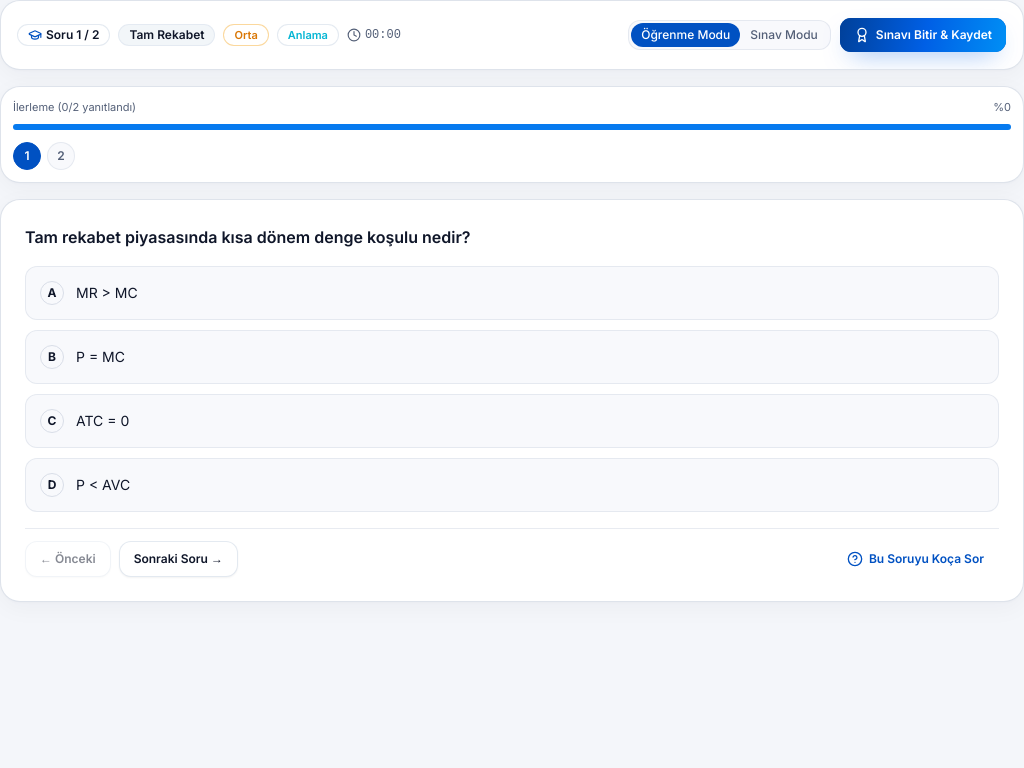
Redesigned EconNotes Çalışma Stüdyosu › supports QuizWorkspace study mode, AI rubric grading for open-ended questions, and records progress
Later steps or results of the test are not shown.
Note: Answer Q1 multiple choice
Click the text "P = MC". click: {"x": 100, "y": 356}
box: top-left (76, 346), bottom-right (125, 366)
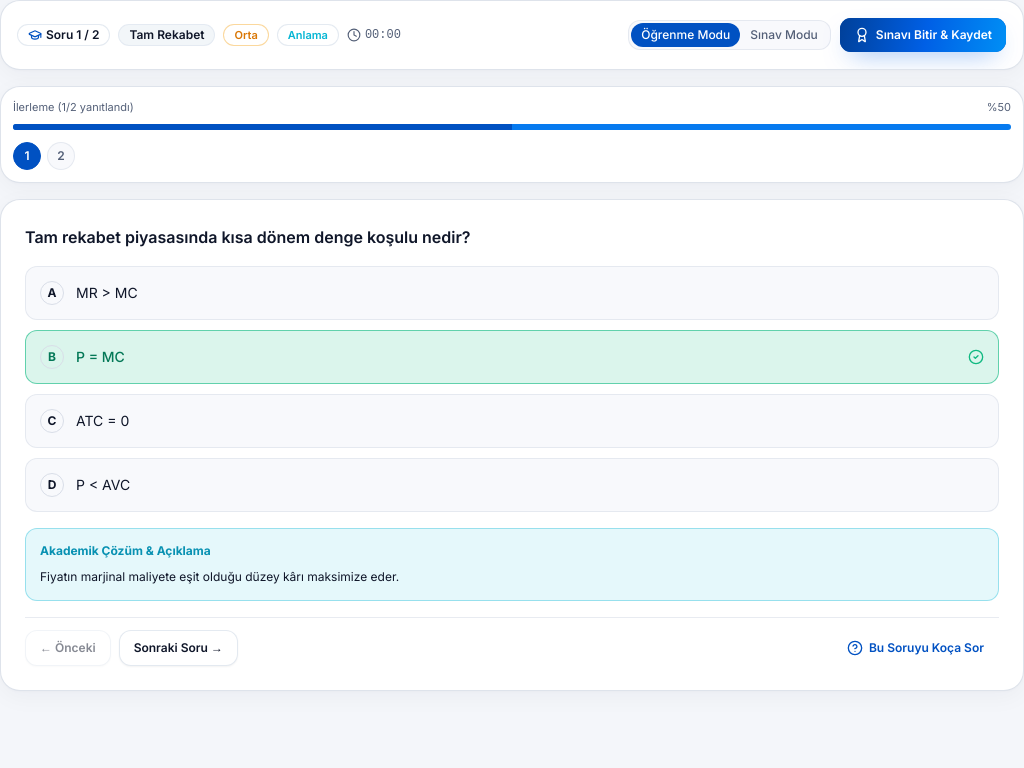
Expected: the text "Fiyatın marjinal maliyete eşit olduğu düzey" is shown, top-left (40, 568), bottom-right (399, 584)
Note: Move to Q2 open-ended
Click the button "Sonraki Soru →". click: {"x": 178, "y": 648}
box: top-left (119, 630), bottom-right (238, 666)
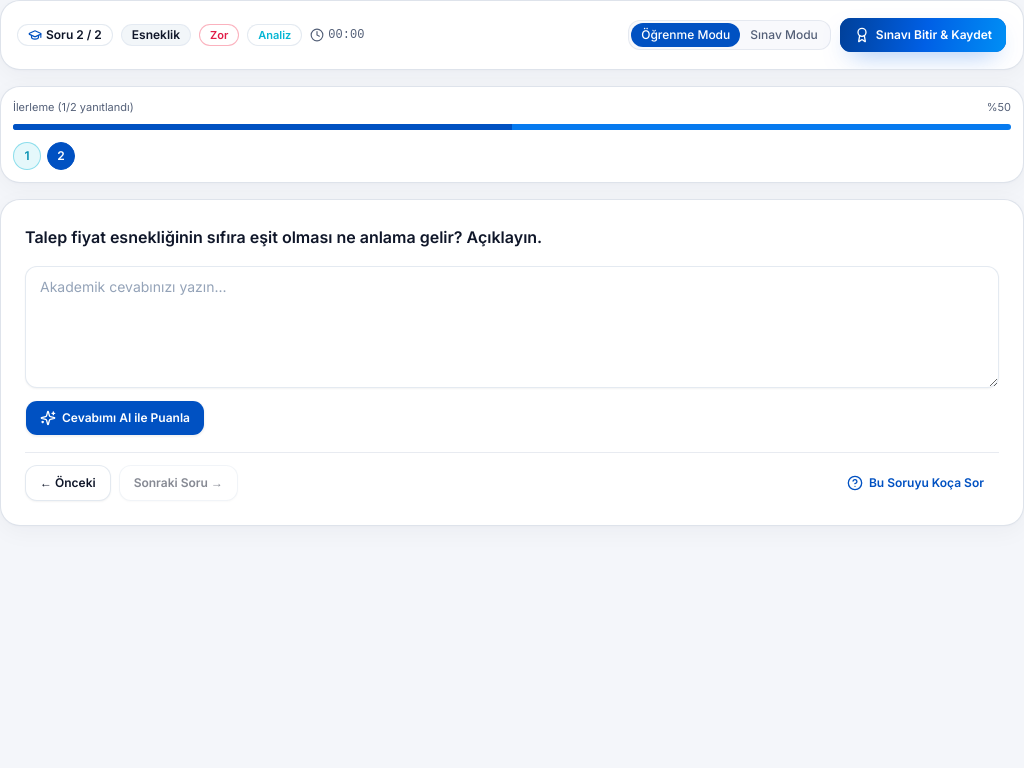
Type "Fiyat değişse bile miktar değişmez, tam inelastik talep eğrisi dikeydir." into the text box with placeholder "Akademik cevabınızı yazın...". click: {"x": 512, "y": 326}
box: top-left (25, 266), bottom-right (999, 388)
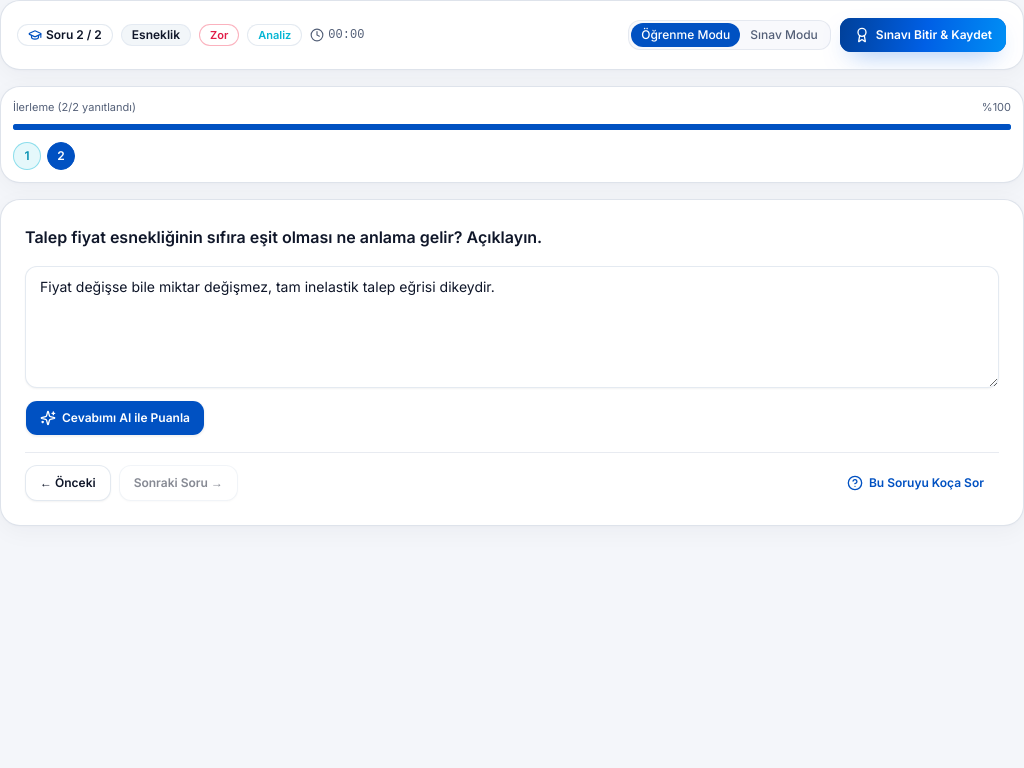
Click the button "Cevabımı AI ile Puanla". click: {"x": 115, "y": 418}
box: top-left (25, 400), bottom-right (205, 436)
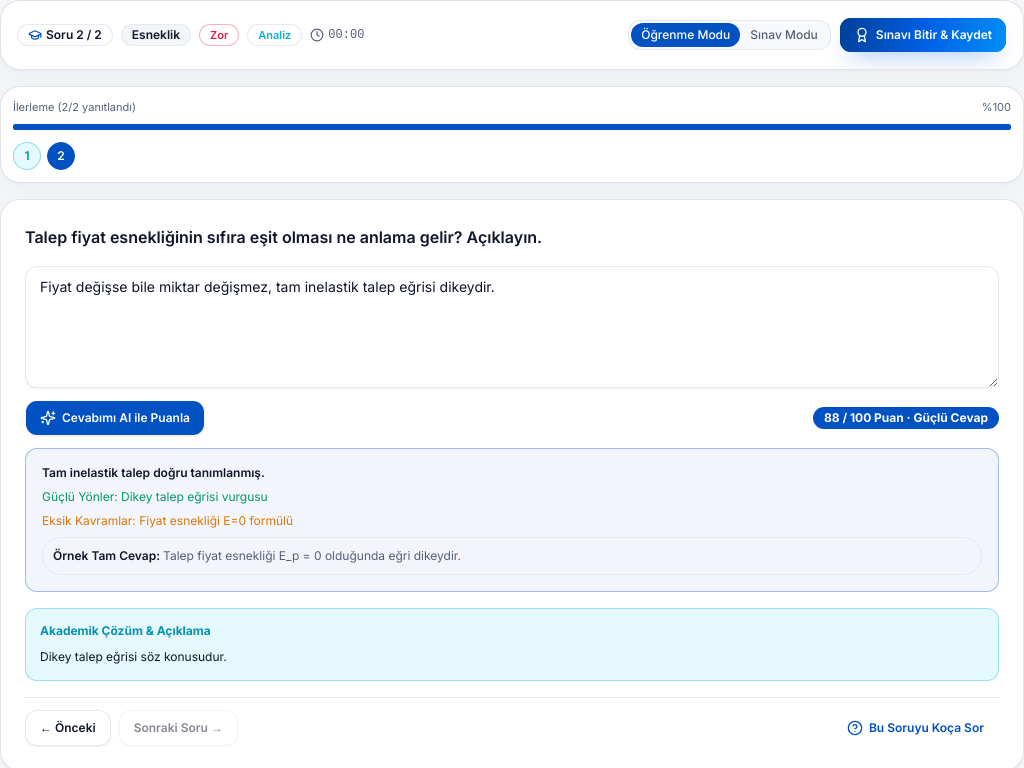
Expected: the text "88 / 100 Puan · Güçlü Cevap" is shown, top-left (813, 406), bottom-right (999, 428)
